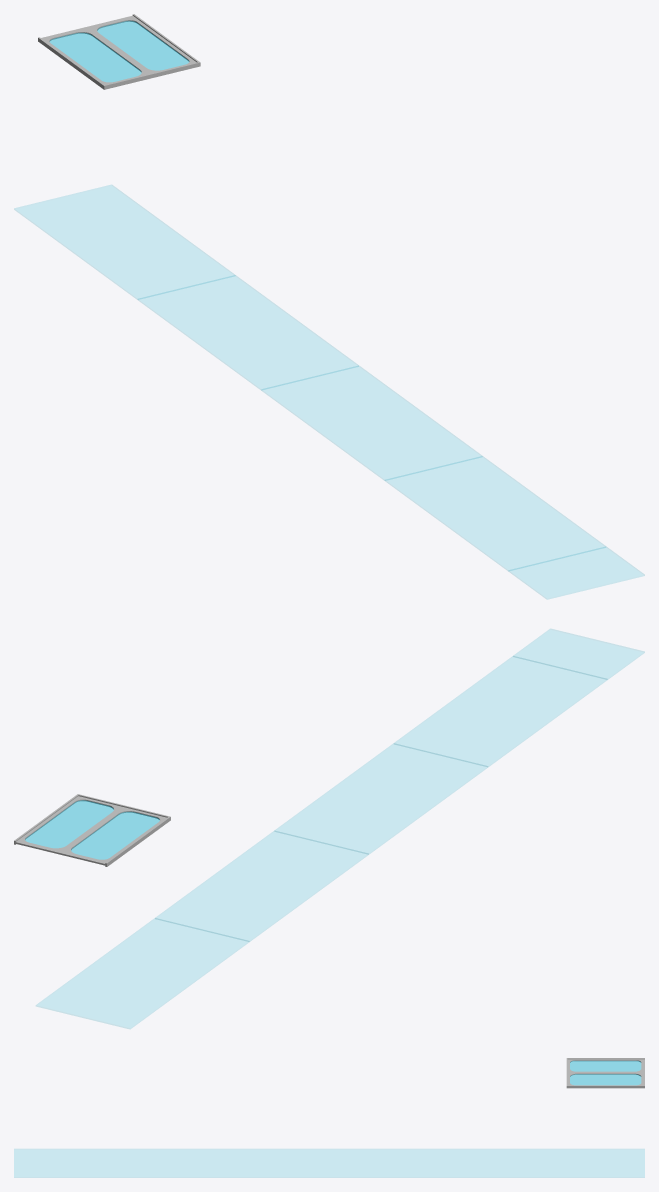
The picture shows the model from 3 angles, top to bottom: view 1: azimuth 30°, elevation 25°; view 2: azimuth 150°, elevation 25°; view 3: azimuth 270°, elevation 25°; orthographic projection. The views are drawn at different scales.
Parts seen in each view (by area): view 1: 0_3_1_1_1_2_0_2; view 2: 0_3_1_1_1_2_0_2; view 3: 0_3_1_1_1_2_0_2.
Part boxes in pixels (<box>): 0_3_1_1_1_2_0_2: <box>14,14,644,598</box>; 0_3_1_1_1_2_0_2: <box>14,629,644,1028</box>; 0_3_1_1_1_2_0_2: <box>14,1058,644,1177</box>.
Size of the model in its own units: 2.25 by 2.97 by 17.25.
